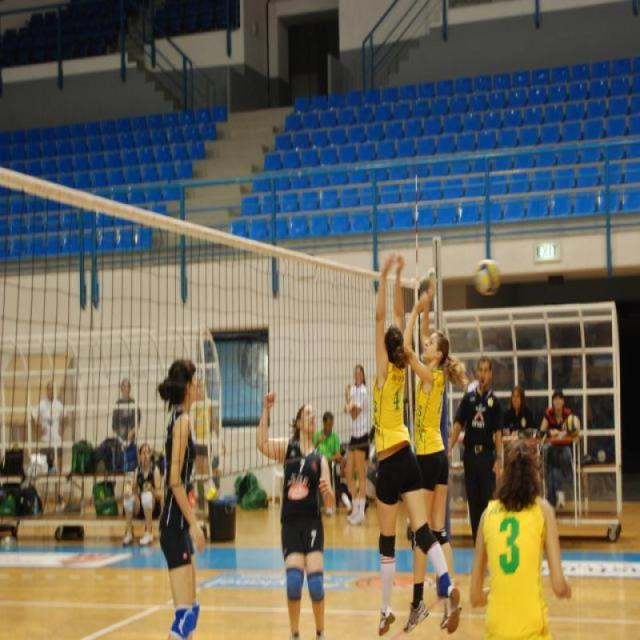volleyball: (473, 257, 501, 293)
